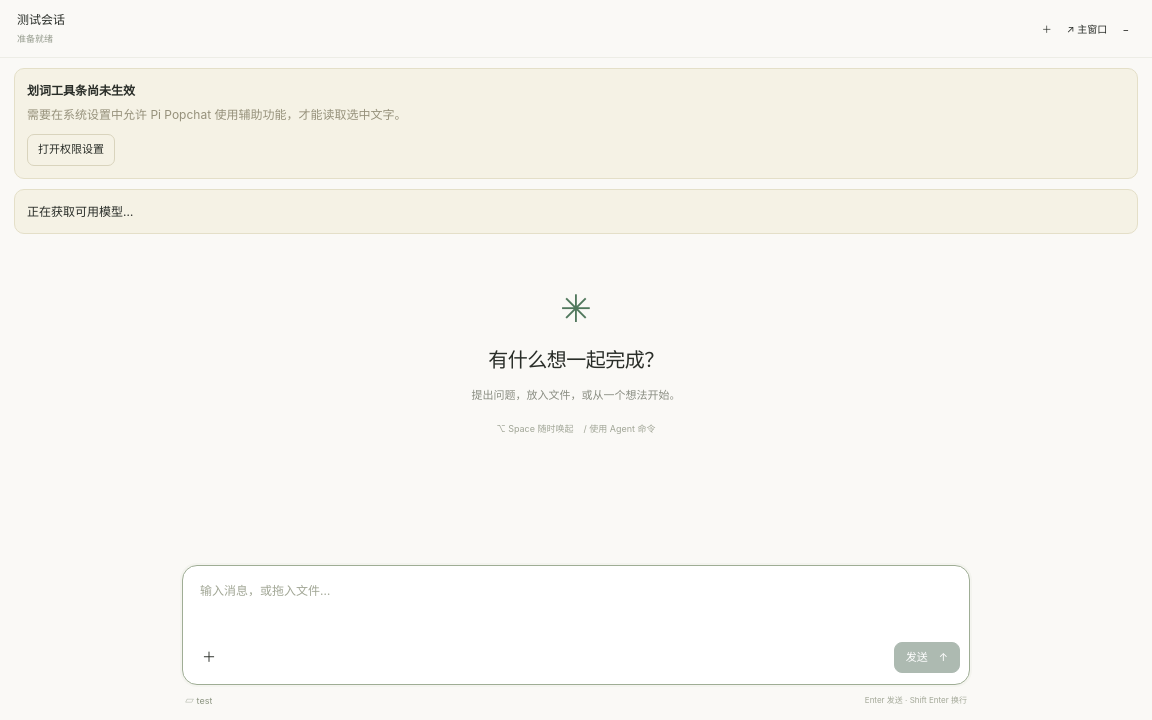
Scenario: shows missing selection permission and refreshes after authorization
This screenshot has width=1152, height=720.
Expected: the text "测试会话" is shown, top-left (17, 10), bottom-right (65, 29)
Click the button "打开权限设置" at [71, 150], box top-left (27, 134), bottom-right (115, 166)
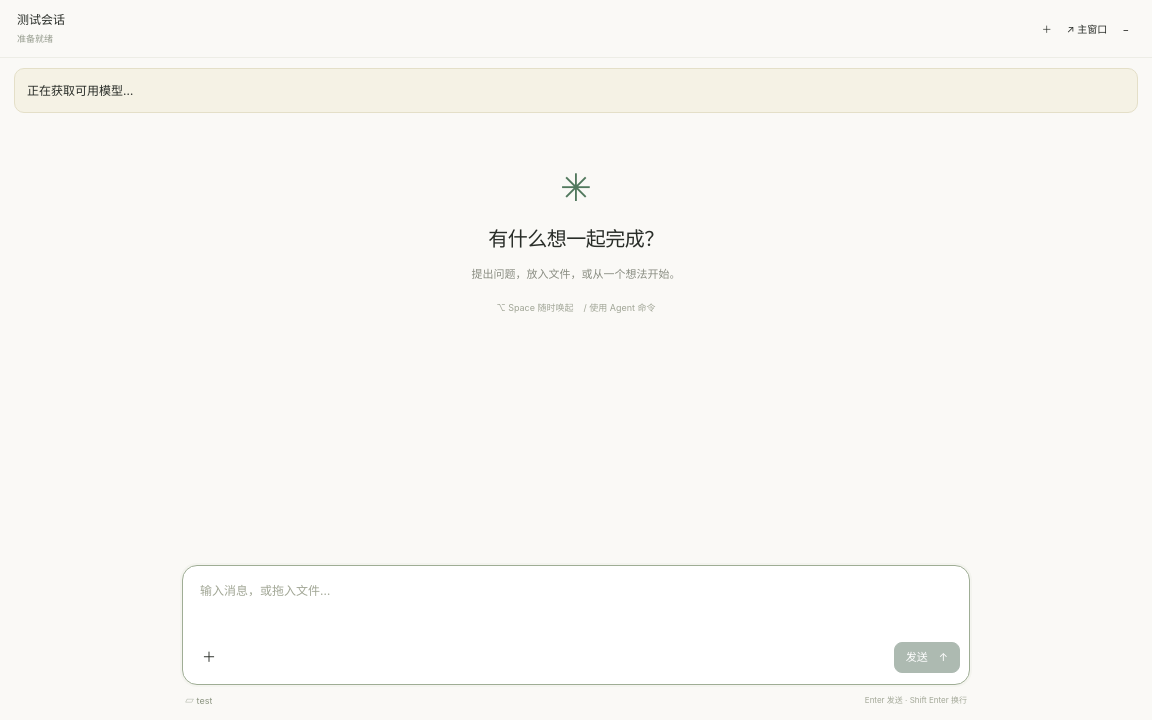
Result: the text "划词工具条尚未生效" is gone
